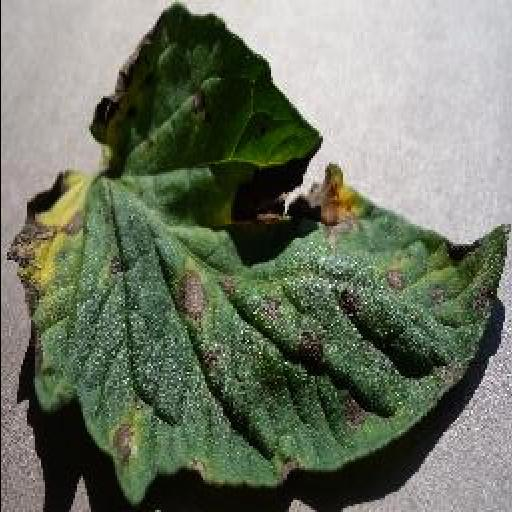disease_tomato: (0, 6, 510, 508)
